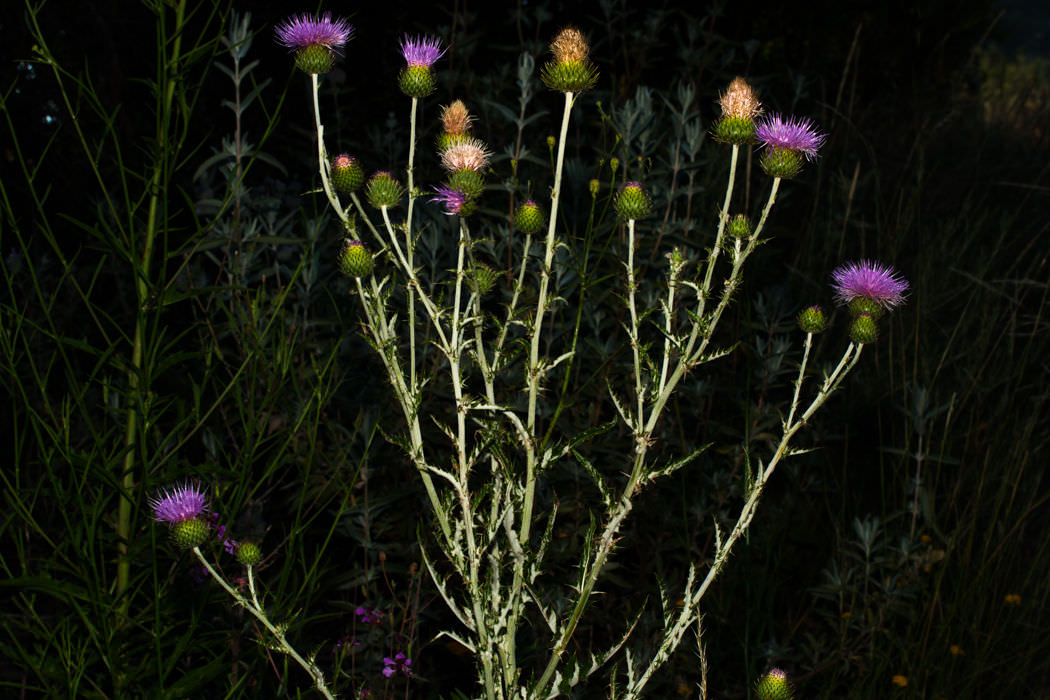thistle: (745, 108, 824, 187), (269, 15, 353, 82), (149, 489, 221, 564), (831, 262, 914, 325)
